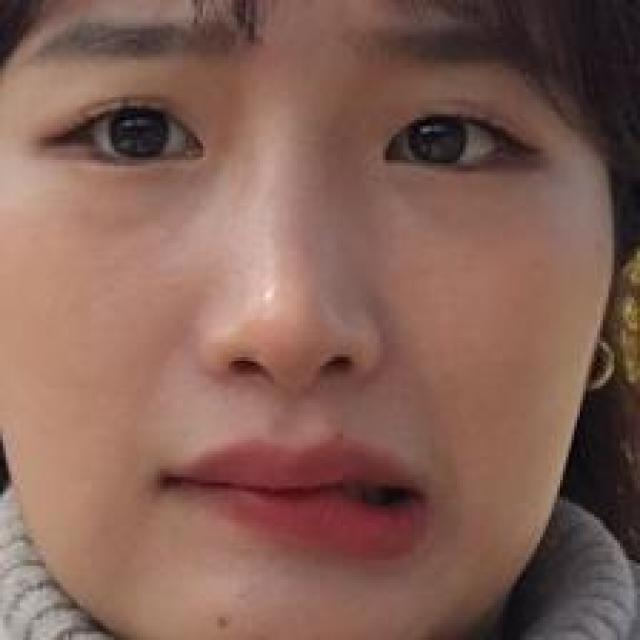fear: (38, 16, 541, 596)
